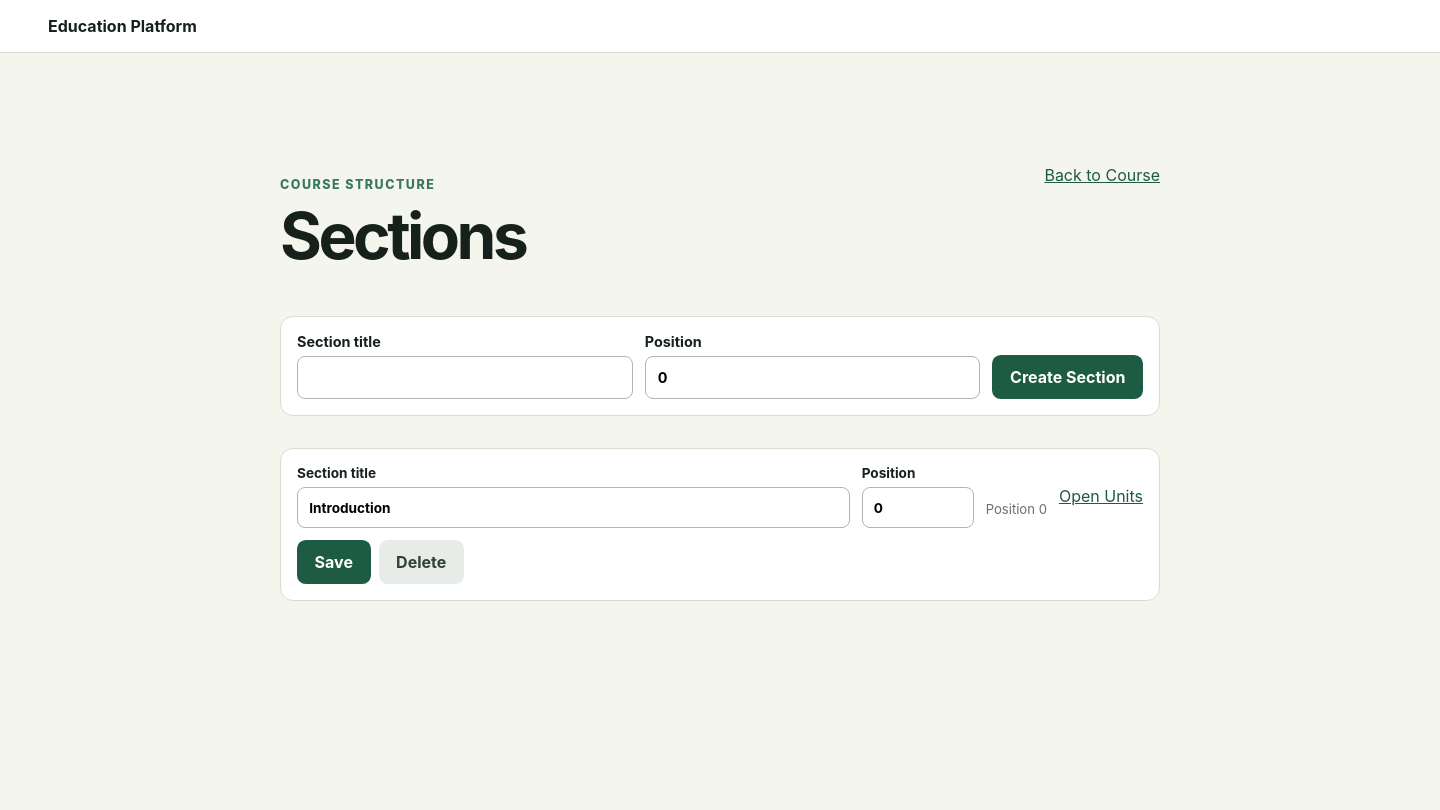
Test case: Section UI › updates Section title and position through the existing API
Step 1. Replace the text in the field labelled "Section title" in the row of "Open Units" with "Updated" → (573, 508), box x1=297 y1=487 x2=850 y2=528
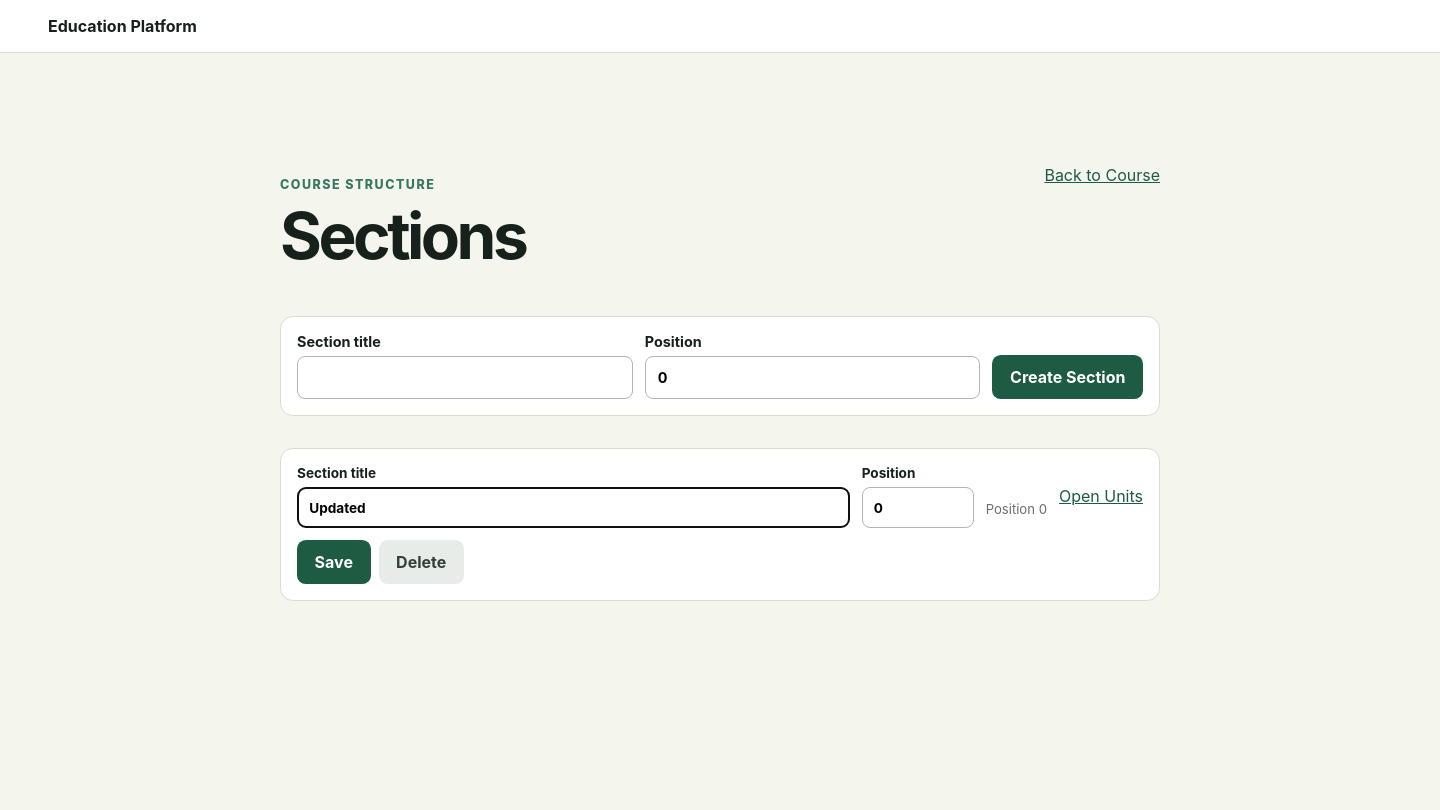
Step 2. Replace the text in the number field labelled "Position" in the row of "Open Units" with "3" → (918, 508), box x1=862 y1=487 x2=974 y2=528
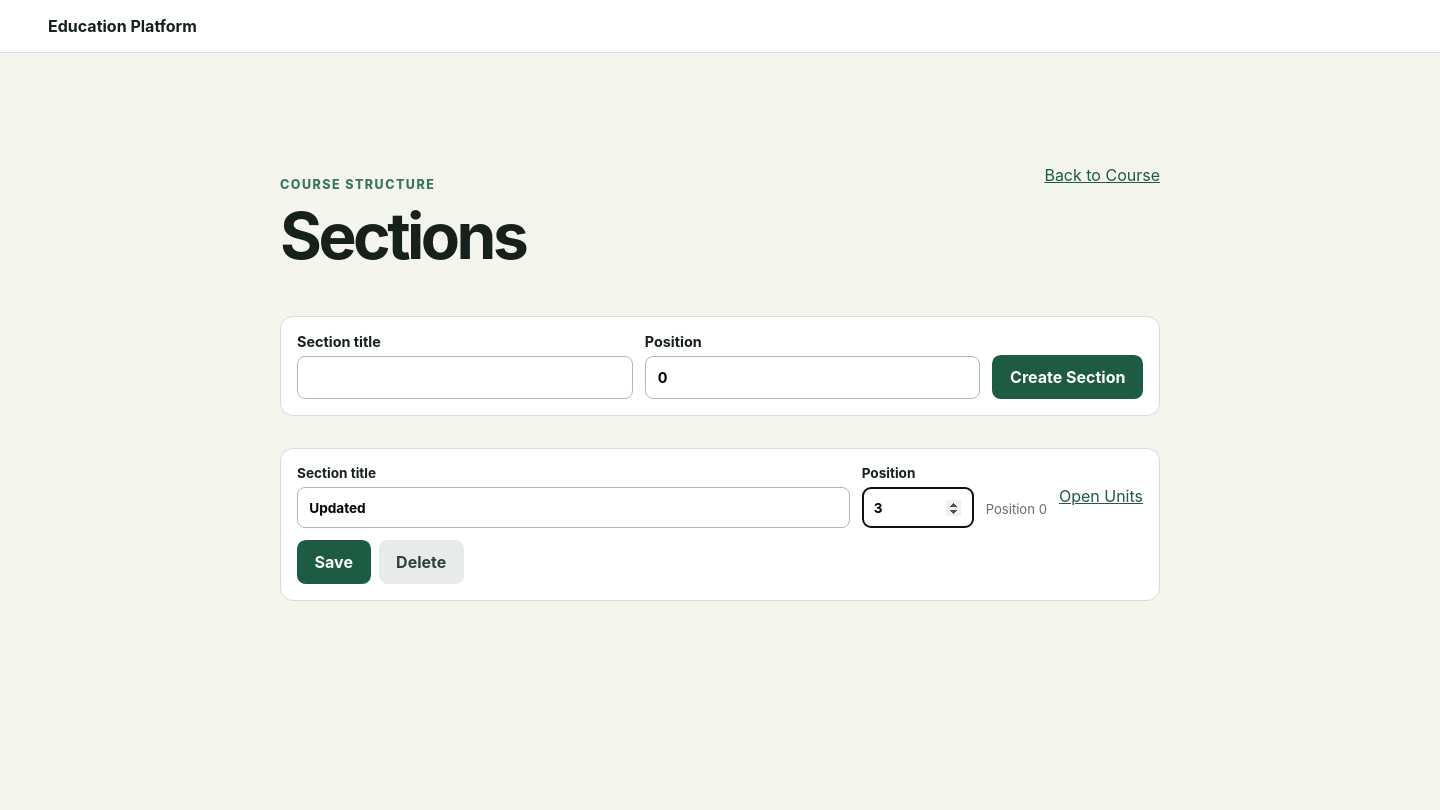
Step 3. Click the button "Save" → (334, 562), box x1=297 y1=540 x2=370 y2=584
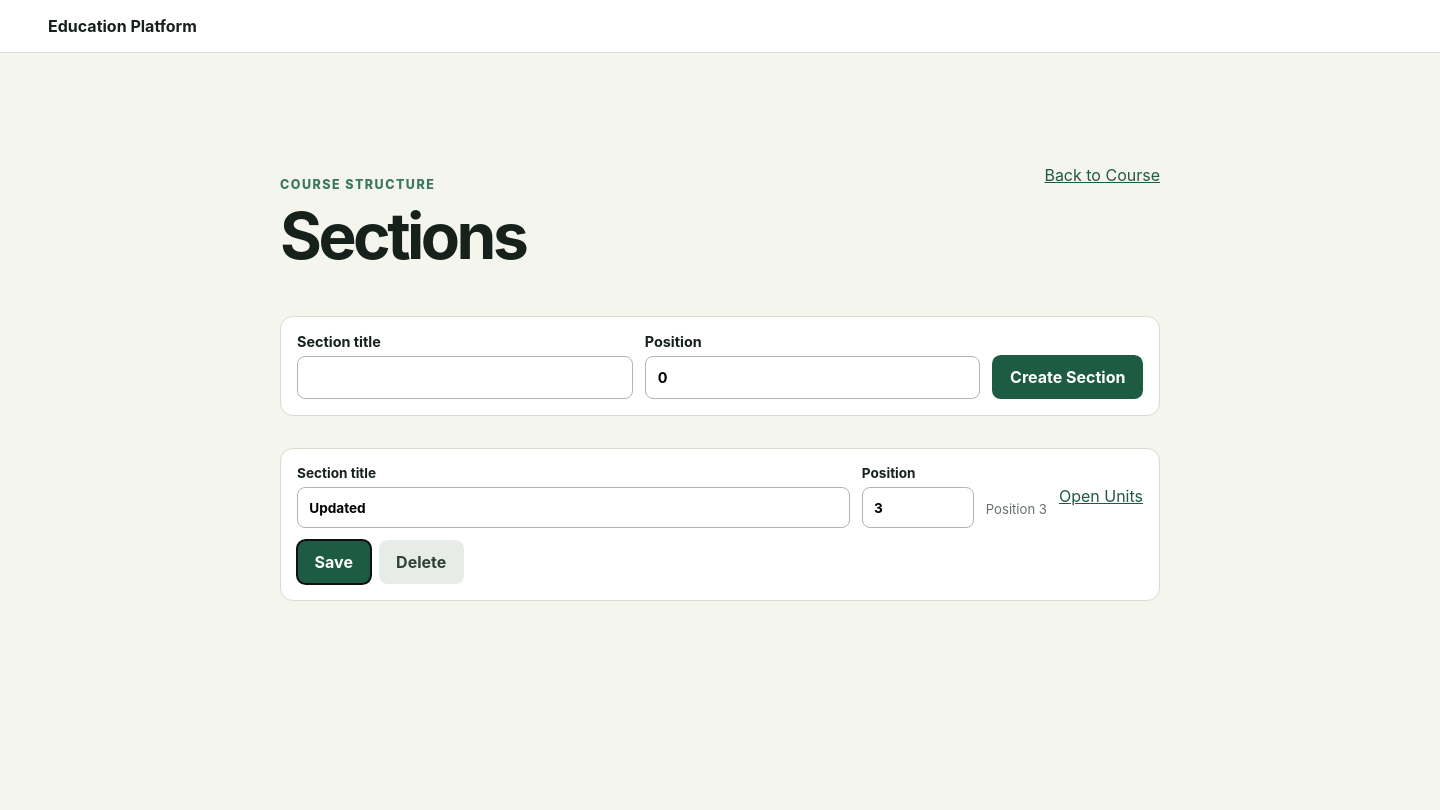
Result: the text "Position 3" is shown at x1=986 y1=501 x2=1047 y2=517
